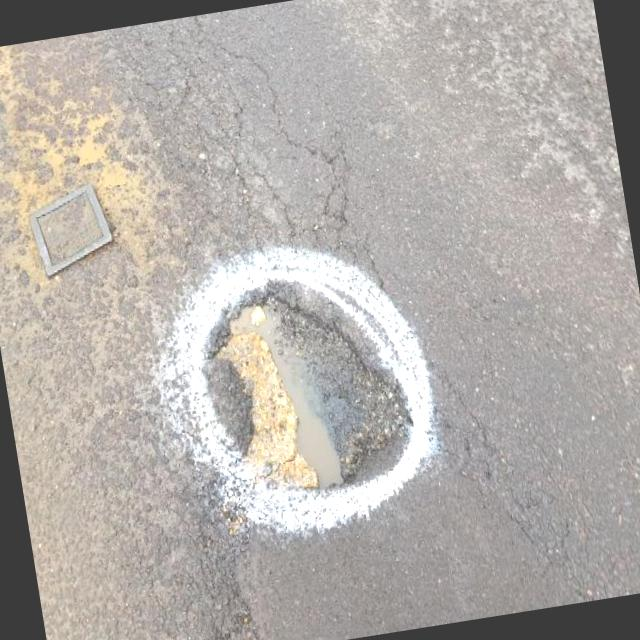pothole: (196, 255, 426, 516)
